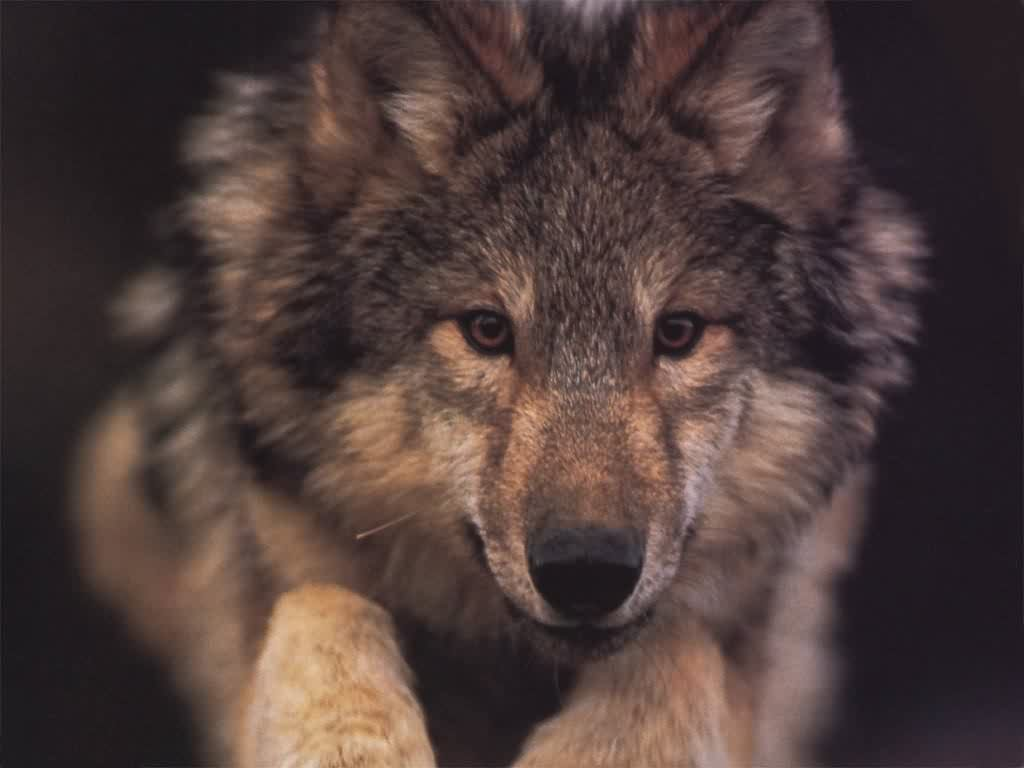wolf: (81, 1, 969, 767)
